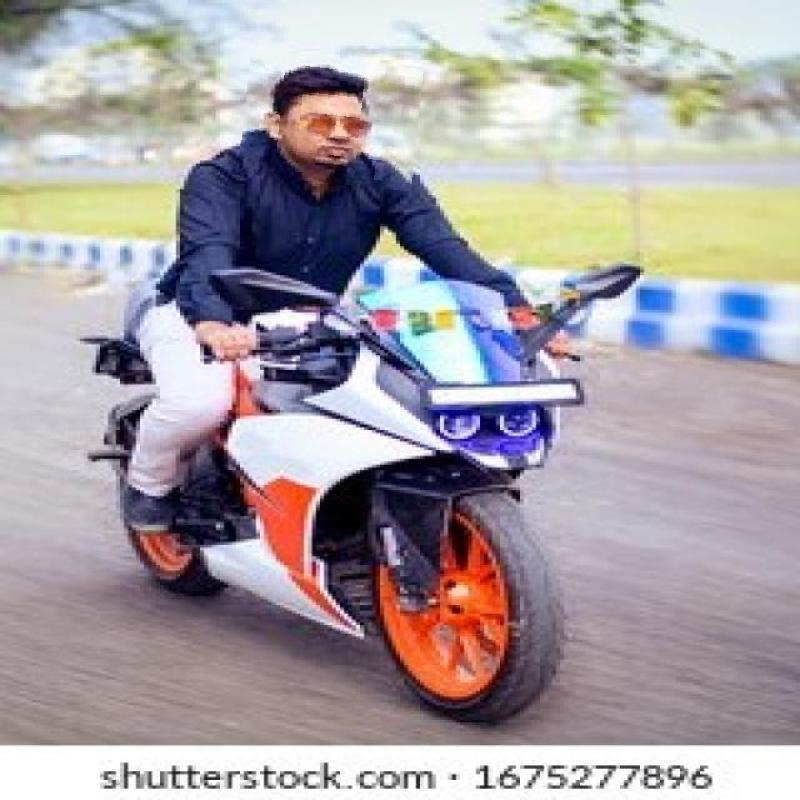nohelmet: (241, 54, 422, 188)
